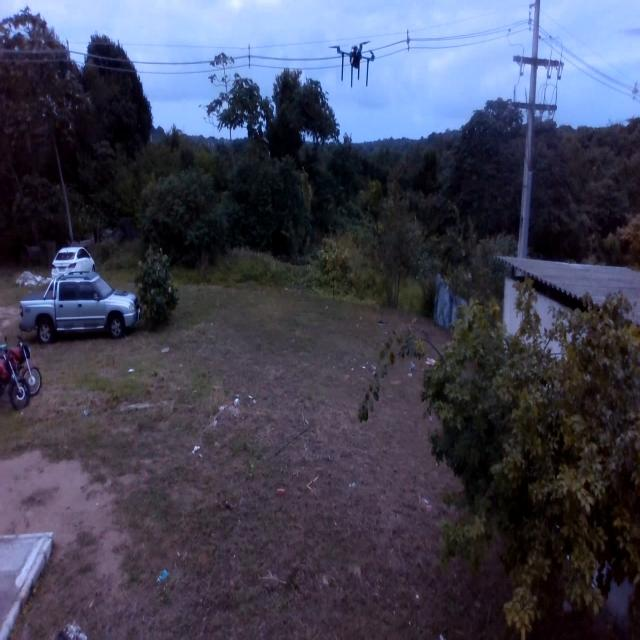-uav-: (323, 25, 387, 104)
